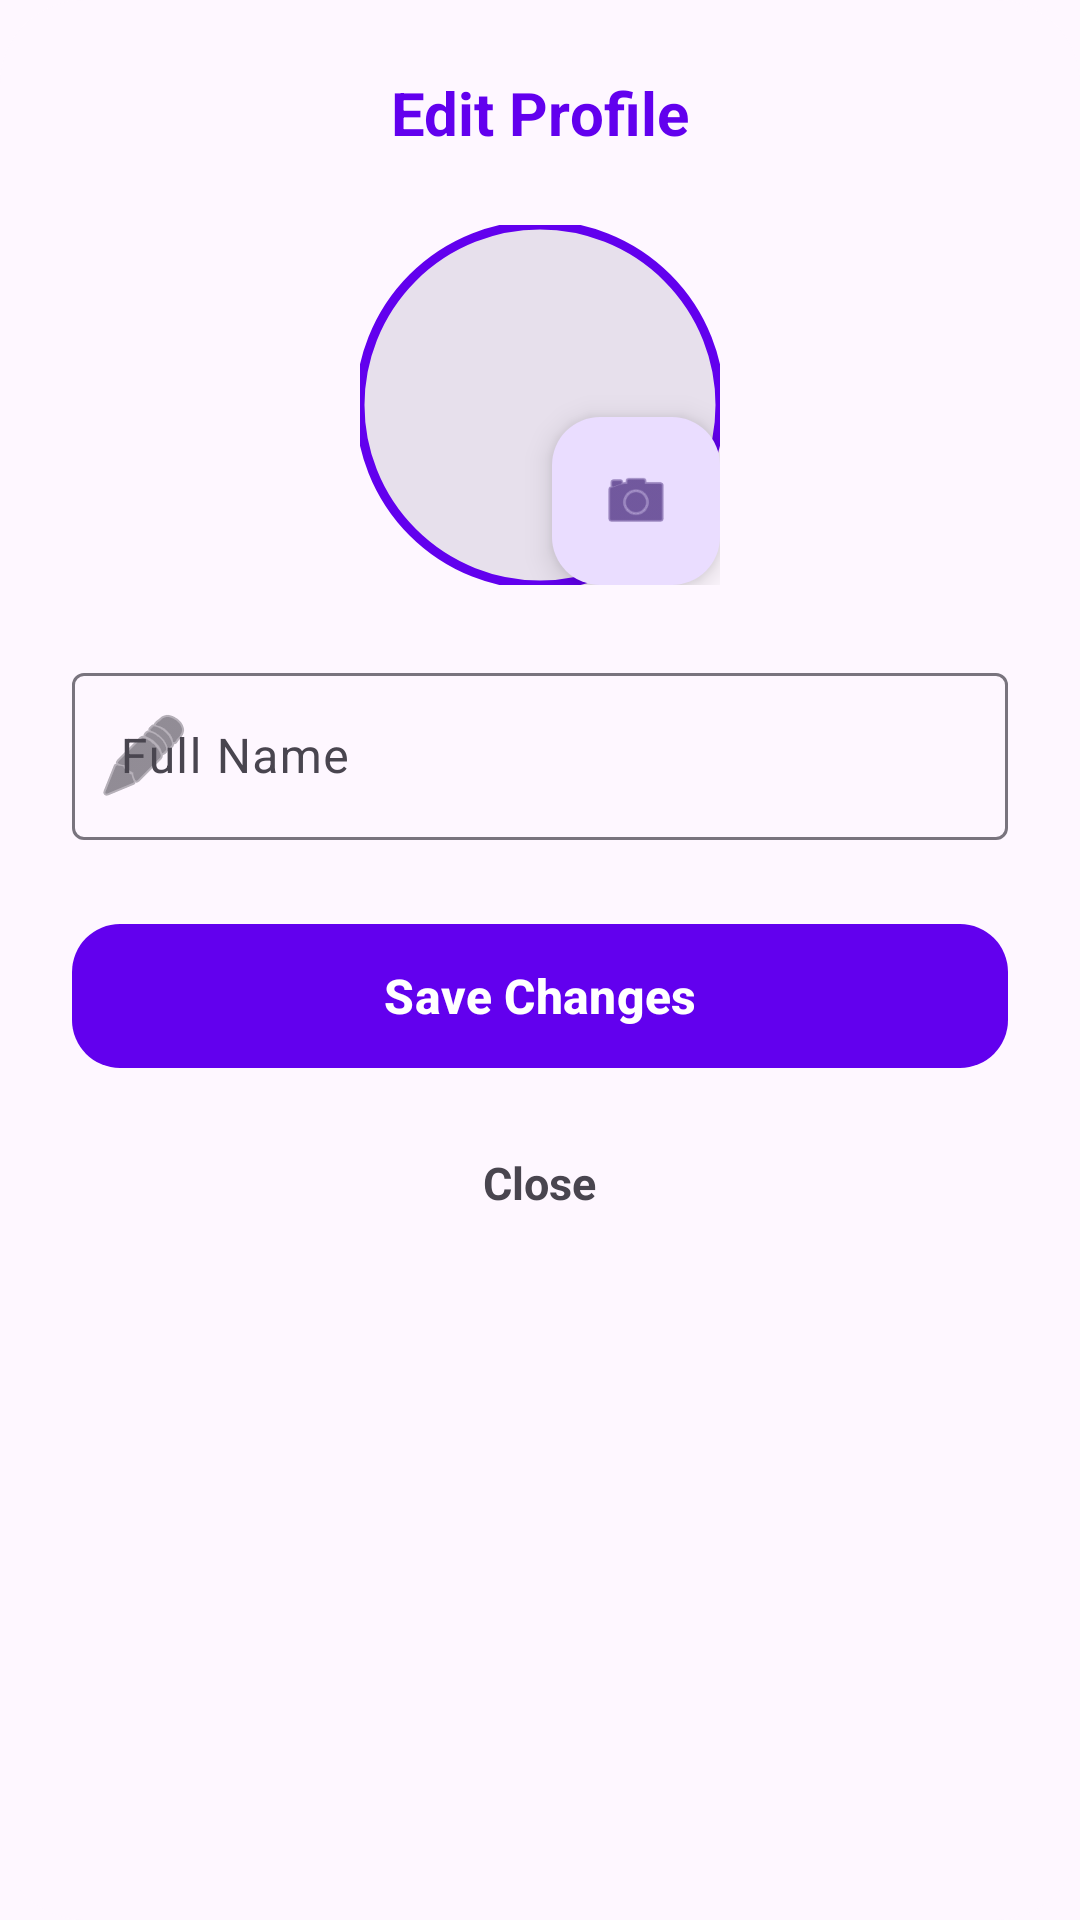

Icon click points for this 1080*1920 phone screenshot, format (x,y):
Pick Photo: (636,501)
